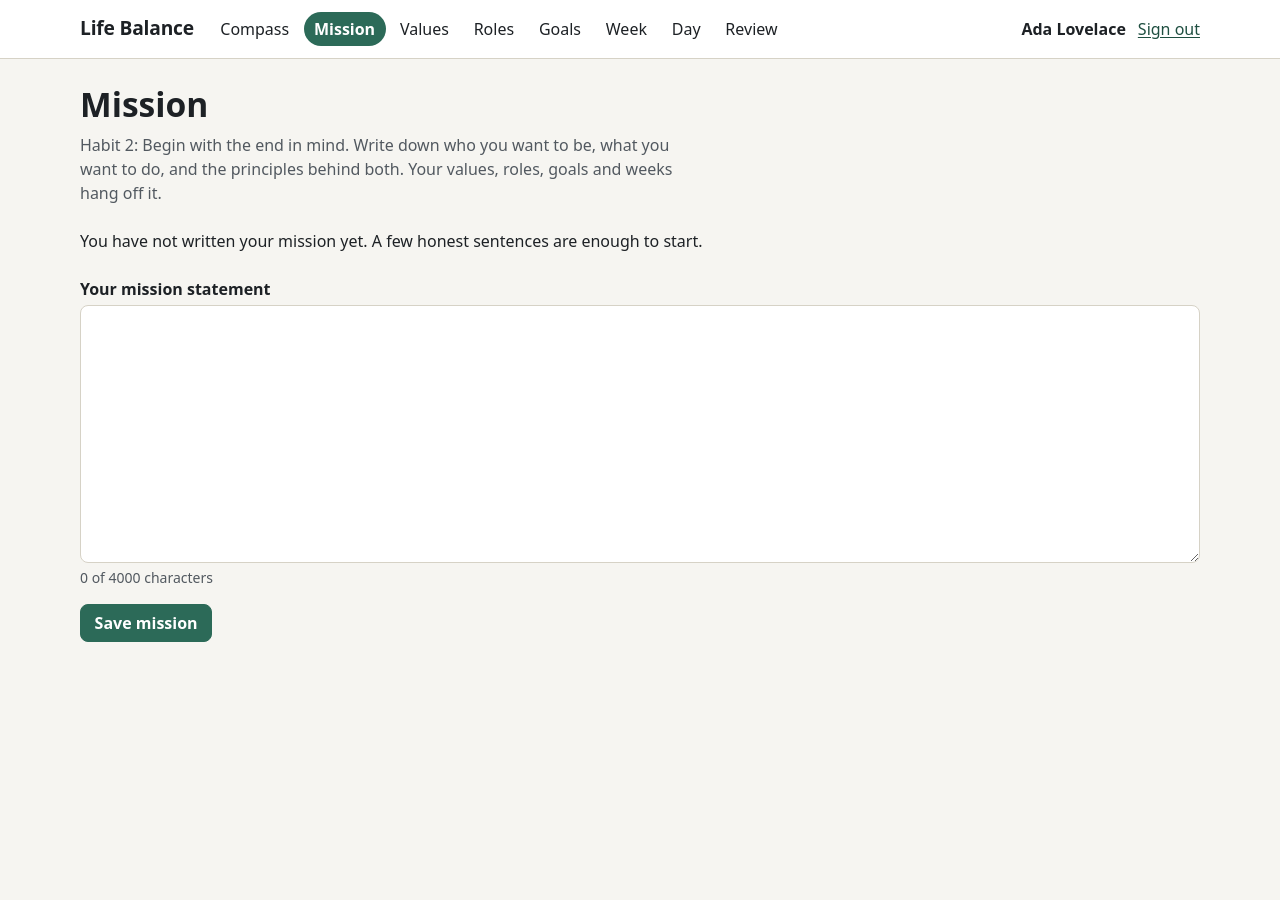
it: invites writing a mission when there is none yet
expect the text "You have not written your mission yet" is shown: met, box [80,230,702,252]
Type "Begin with the end in mind." into the text box labelled "Your mission statement" at (640, 434), box [80,305,1200,563]
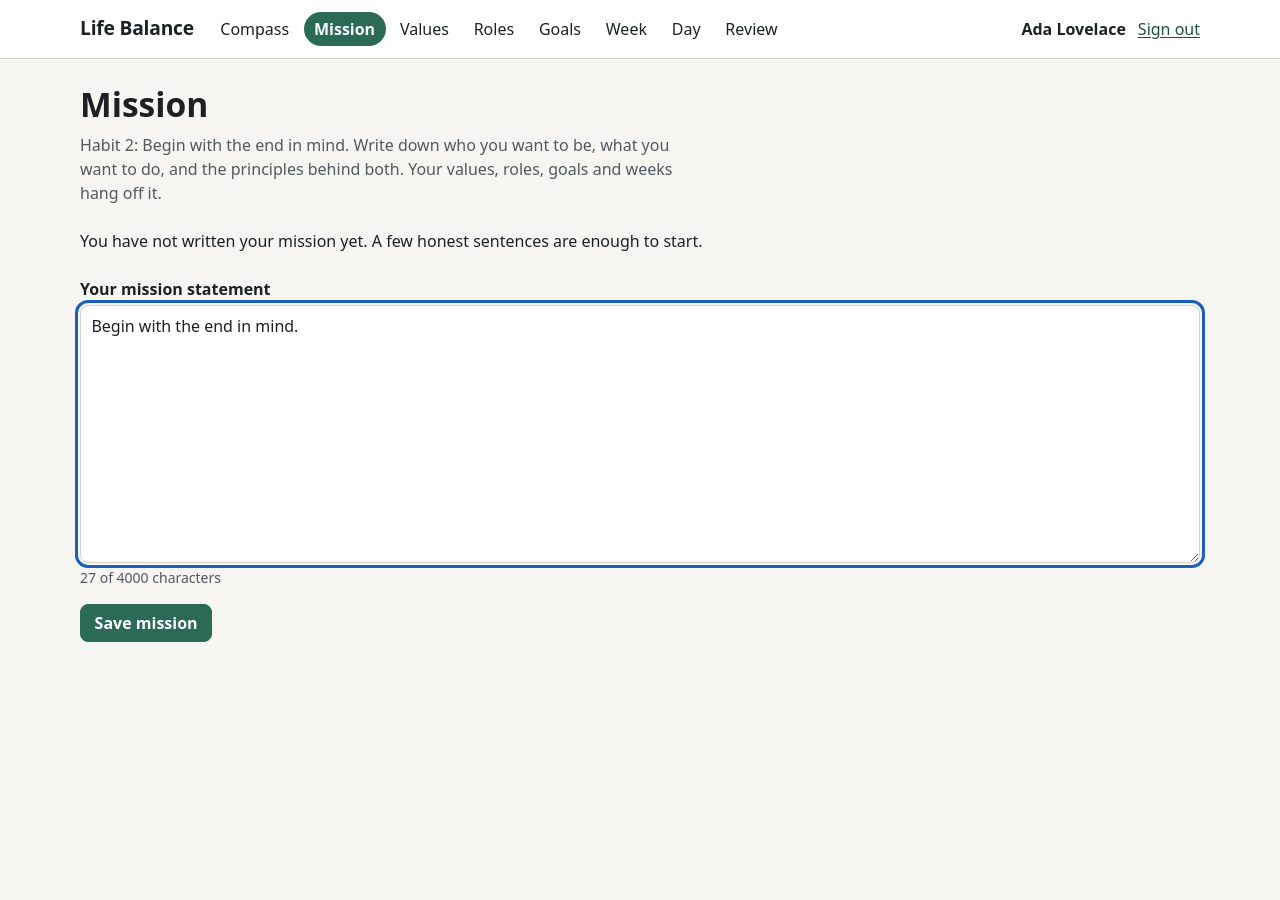
Click the button "Save mission" at (146, 623), box [80,604,212,642]
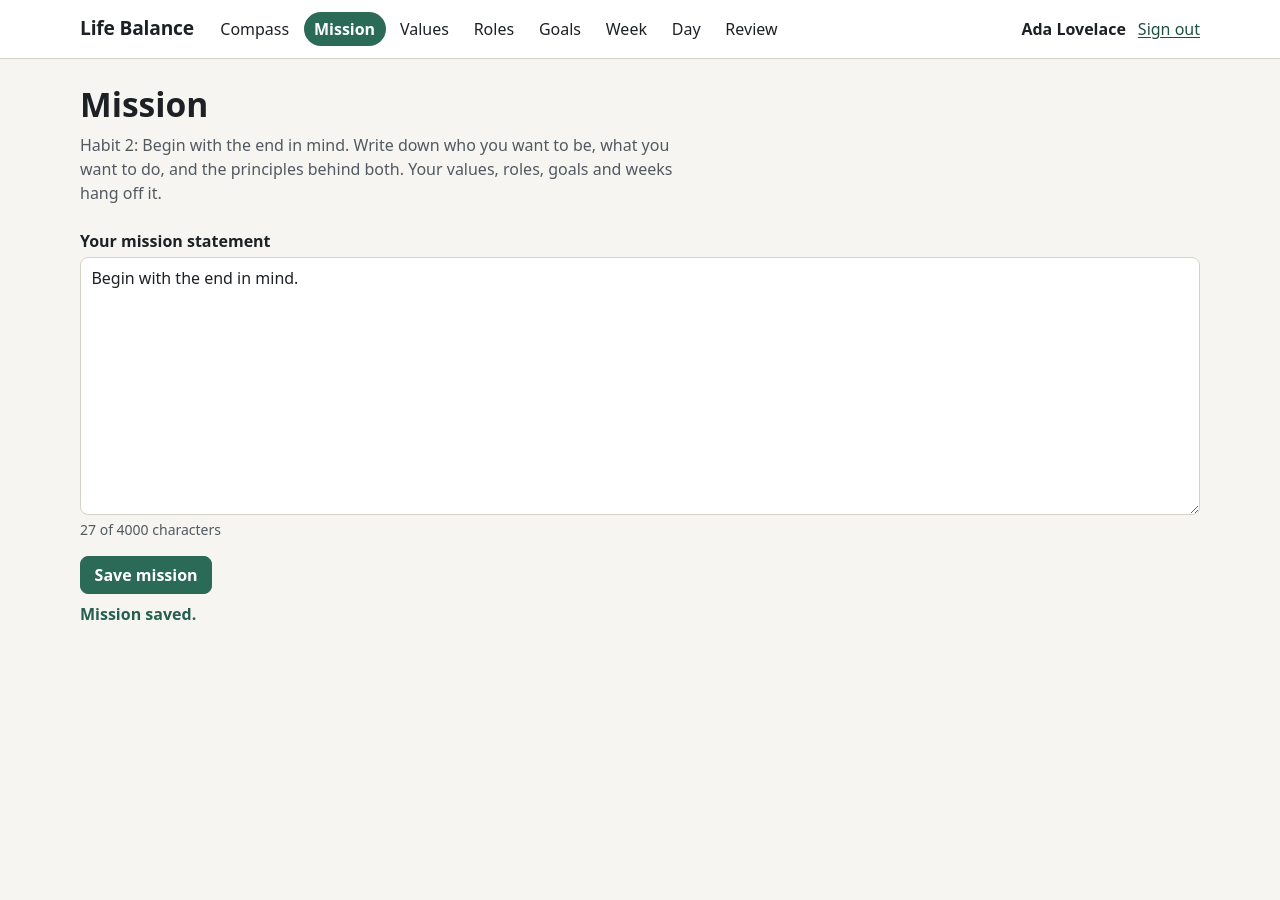
expect the text "Mission saved." is shown: met, box [80,603,196,625]
